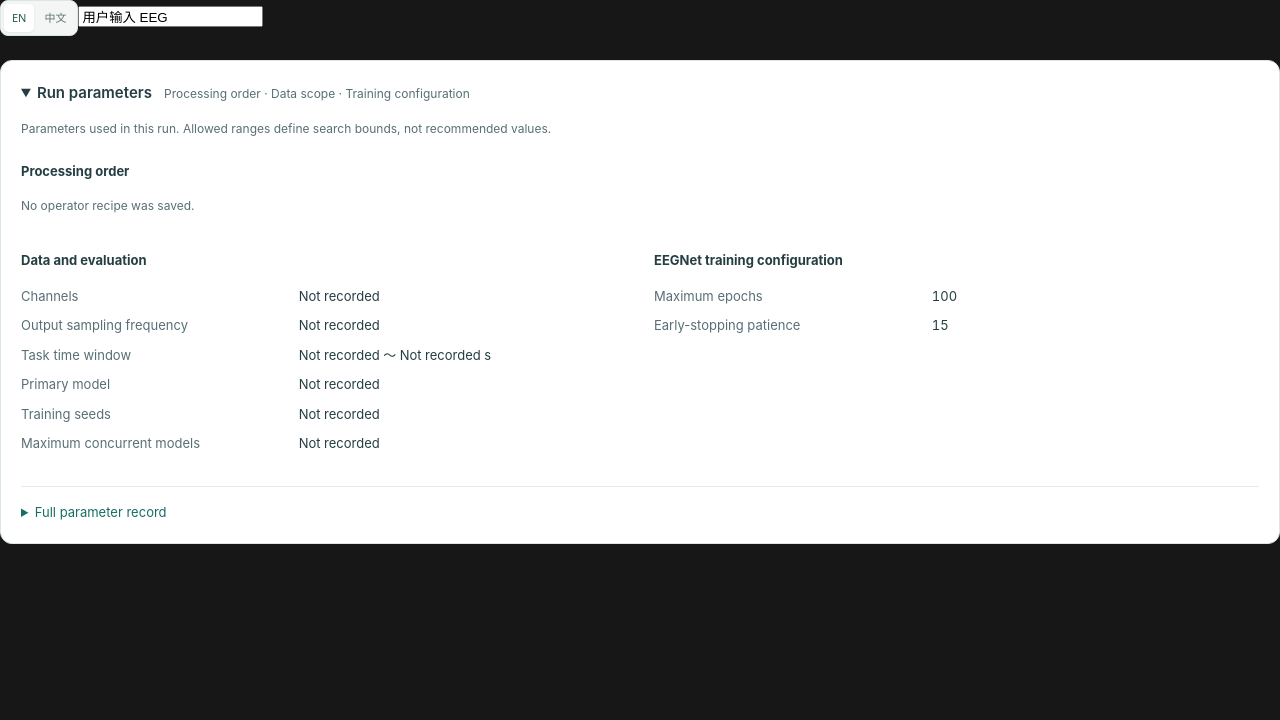
Test: Language switcher › updates parameter labels in place without resetting open sections or input
Replace the text in the field with "My unchanged draft" at point(171, 17), box [78,6,264,27]
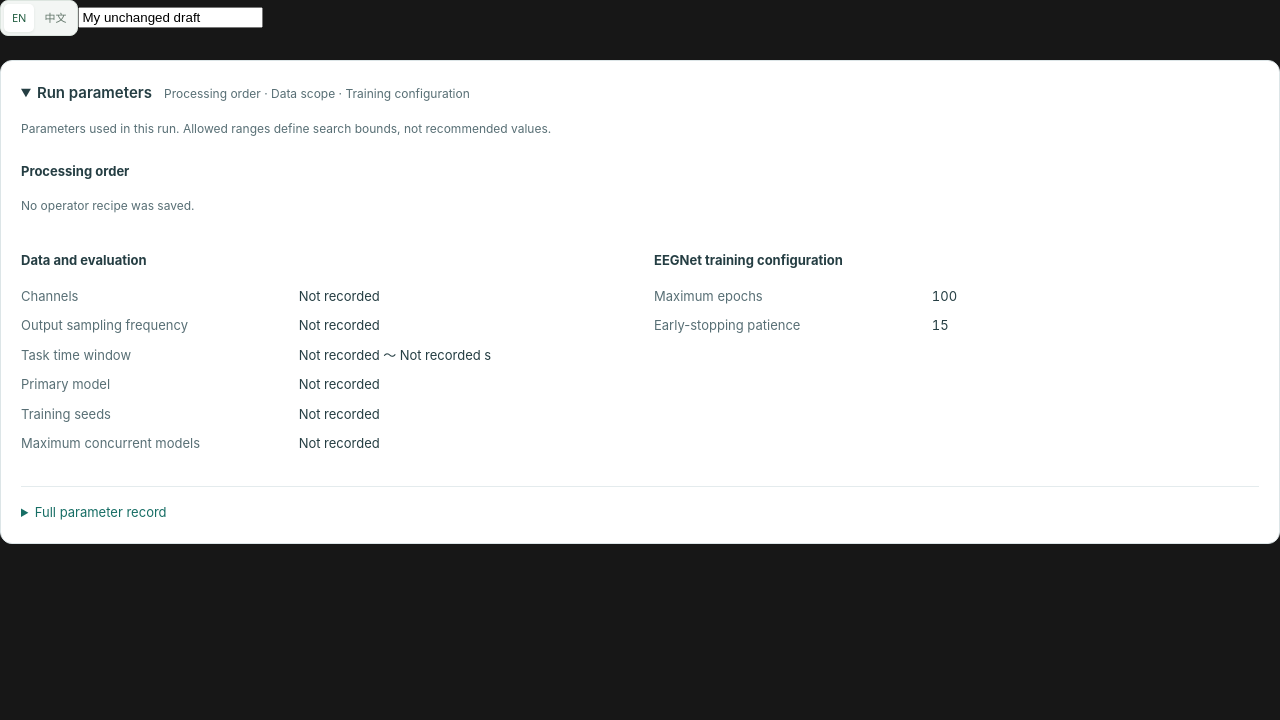
Click the button "中文" at point(56, 18), box [36,4,74,32]
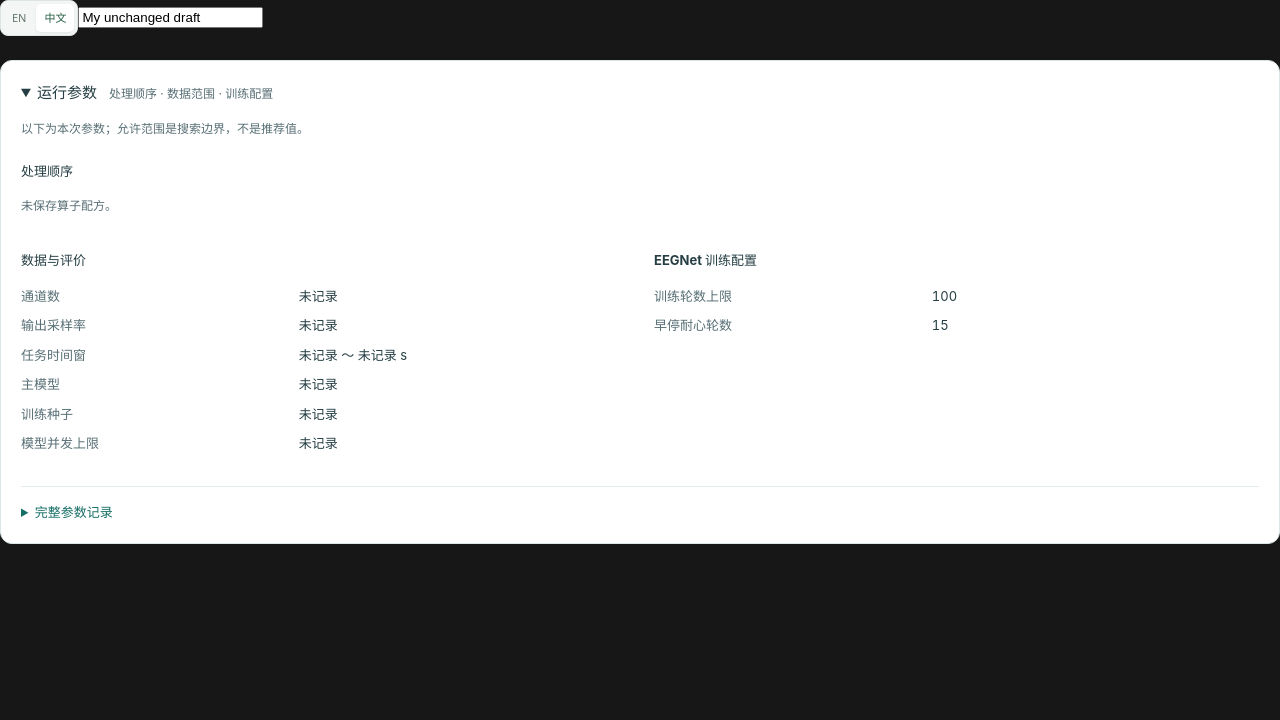
Check: the text "训练轮数上限" is shown, box [654,288,732,304]
Click the button "EN" at point(19, 18), box [4,4,34,32]
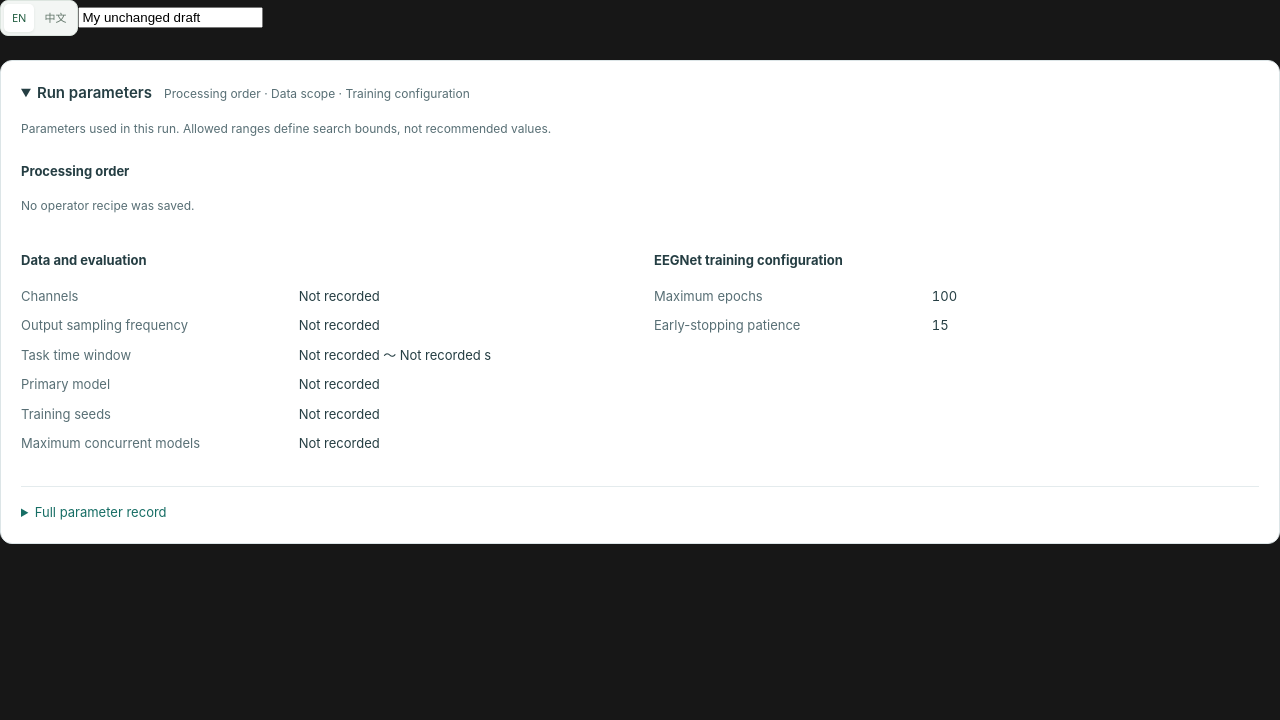
Check: the text "Maximum epochs" is shown, box [654,288,763,304]
